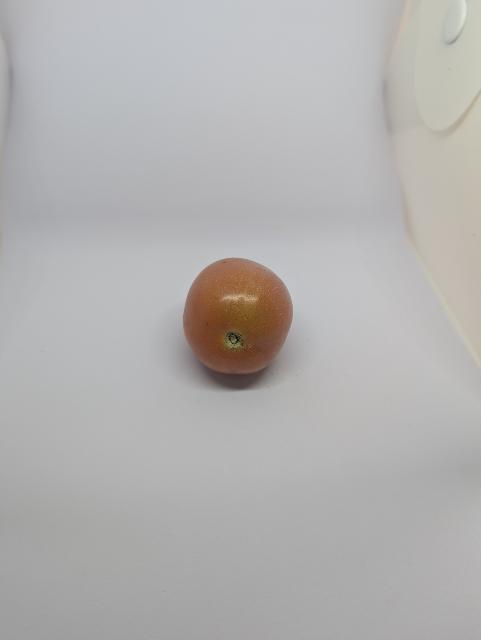turning: (178, 250, 301, 383)
